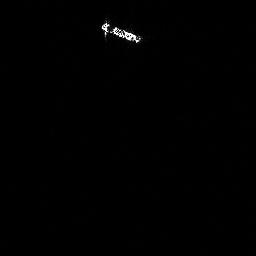ship: (98, 18, 145, 47)
